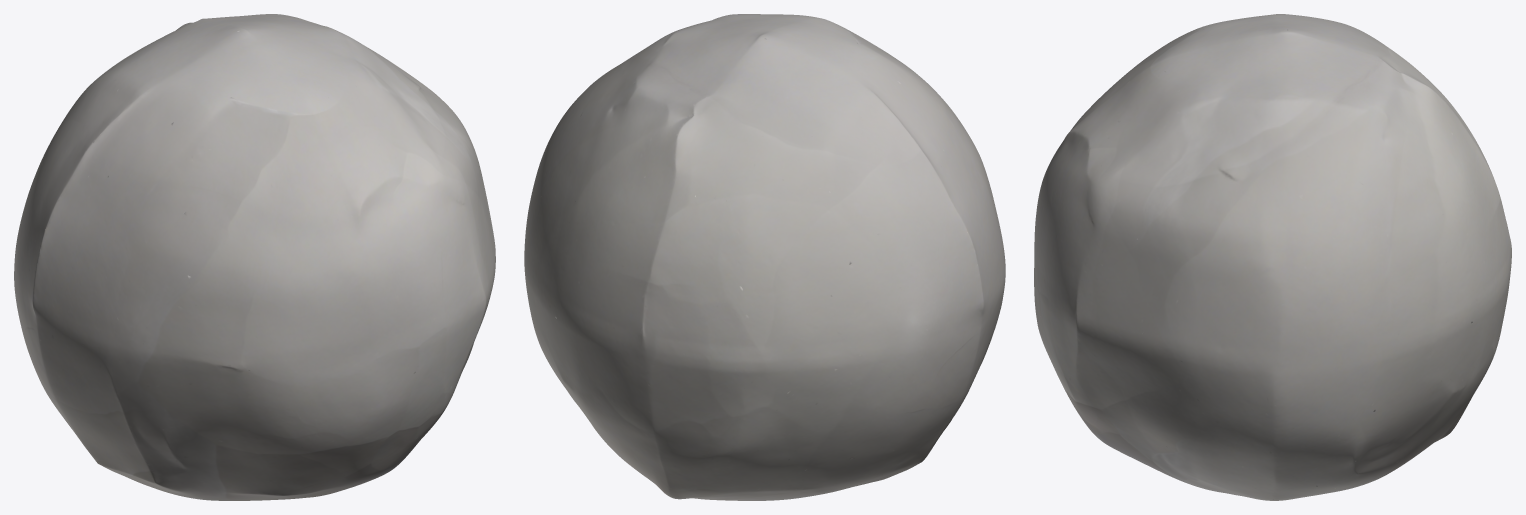
The model's file is Meshy_AI_Snowball_Sphere_1218085718_texture.fbx.
3 views of the same model, side by side, from view 1: azimuth 30°, elevation 25°; view 2: azimuth 150°, elevation 25°; view 3: azimuth 270°, elevation 25° (orthographic).
Parts seen in each view (by area): view 1: Mesh_0.002; view 2: Mesh_0.002; view 3: Mesh_0.002.
Boxes of the visible parts, bbox=[...] form: Mesh_0.002: bbox=[14, 14, 495, 500]; Mesh_0.002: bbox=[524, 14, 1005, 500]; Mesh_0.002: bbox=[1034, 14, 1511, 500].
Bounding box in the file's own units: 198 × 198 × 190.
1 material, 1 textured.
